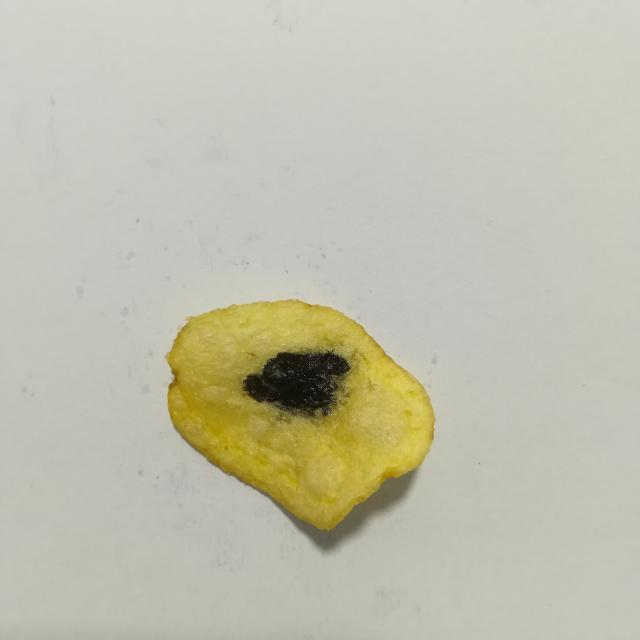chip: (167, 300, 435, 530)
damaged: (243, 351, 350, 415)
semi-damaged: (261, 347, 357, 424)
